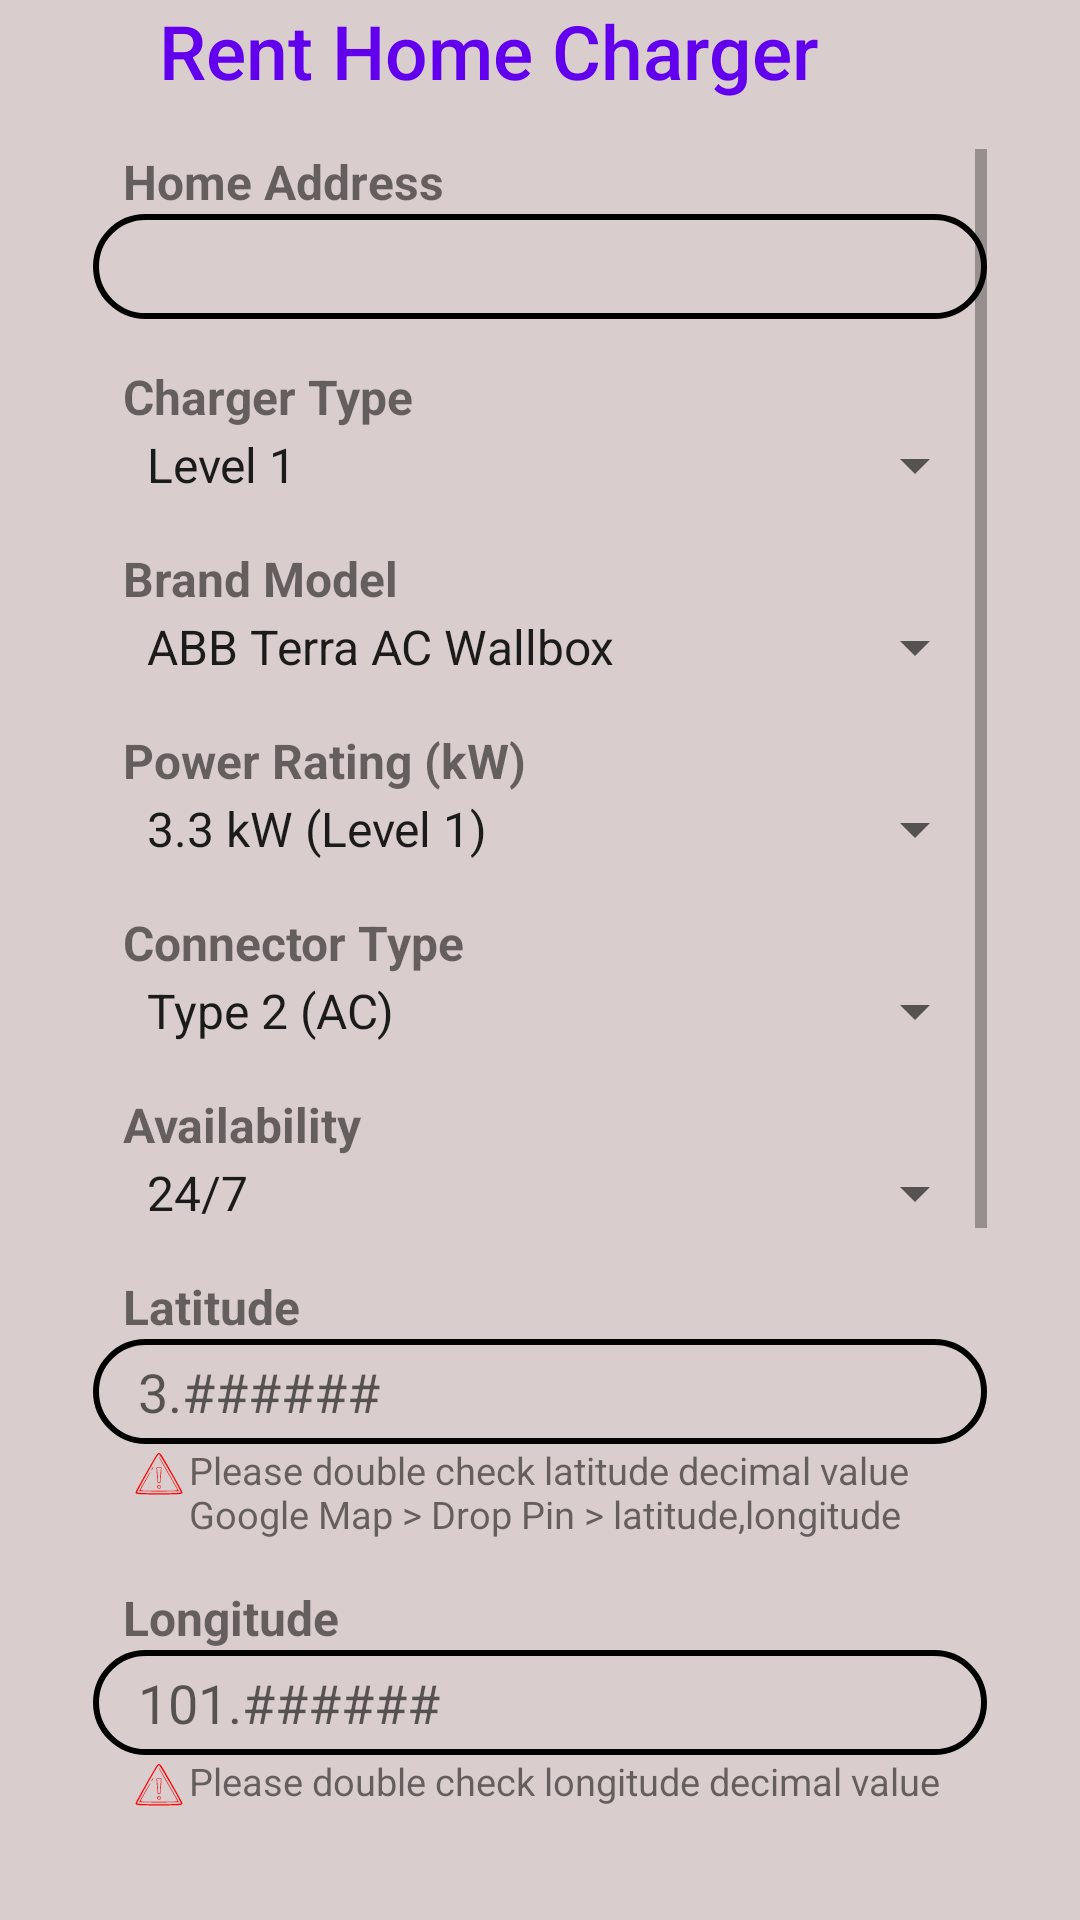

Icons on this 1080*1920 Android screen, each with its box as (x1, y1, x2, y2):
warning: (135, 1453, 183, 1495), (135, 1764, 183, 1806)
